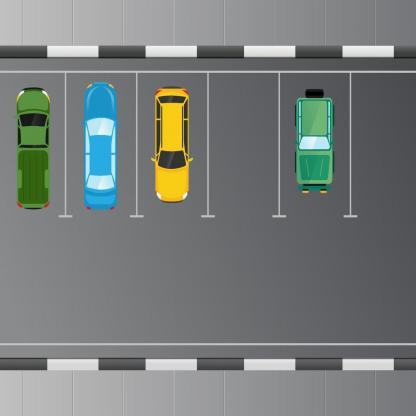Car: (150, 80, 197, 229), (291, 84, 347, 206), (78, 76, 122, 228), (6, 81, 57, 211)
Empty: (210, 74, 276, 220)
